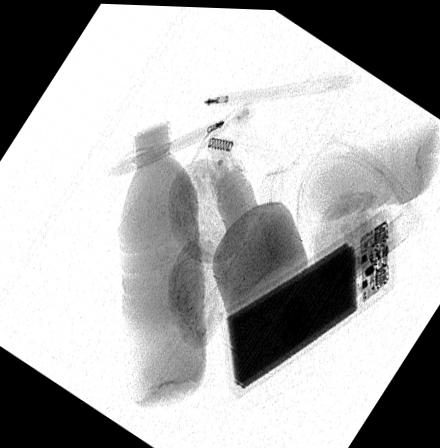Powerbank: (219, 204, 397, 396)
